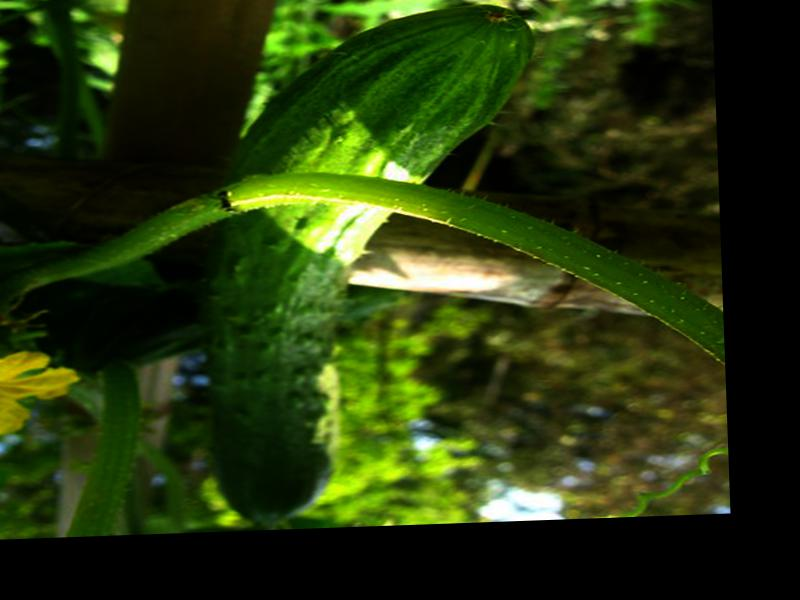Cucumber: (193, 2, 546, 527)
